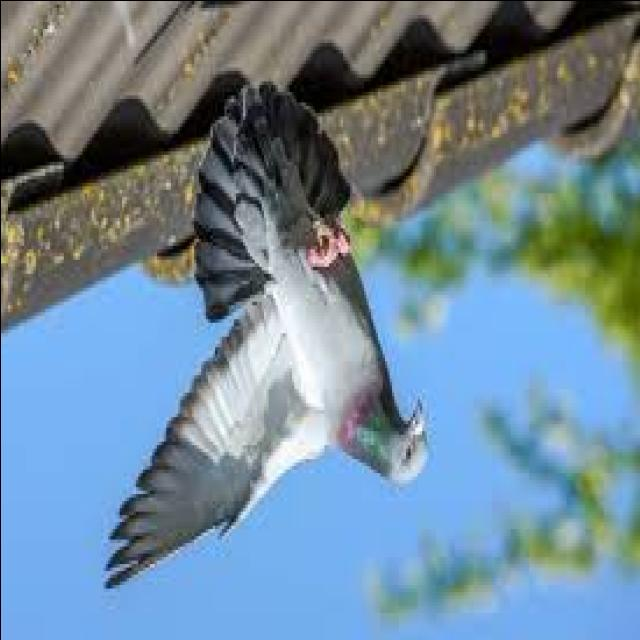pigeon: (100, 83, 442, 592)
